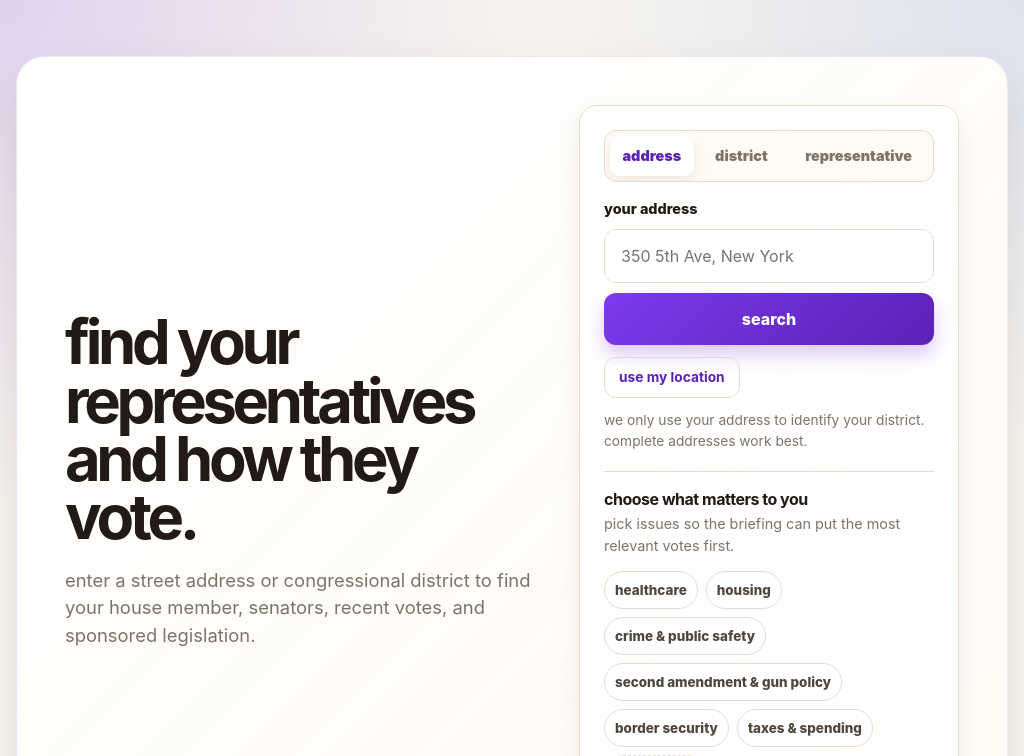
Scenario: App › matches selected issue chips to related backend issue buckets
Click the button "border security". click: point(666, 728)
box: [604, 709, 729, 747]
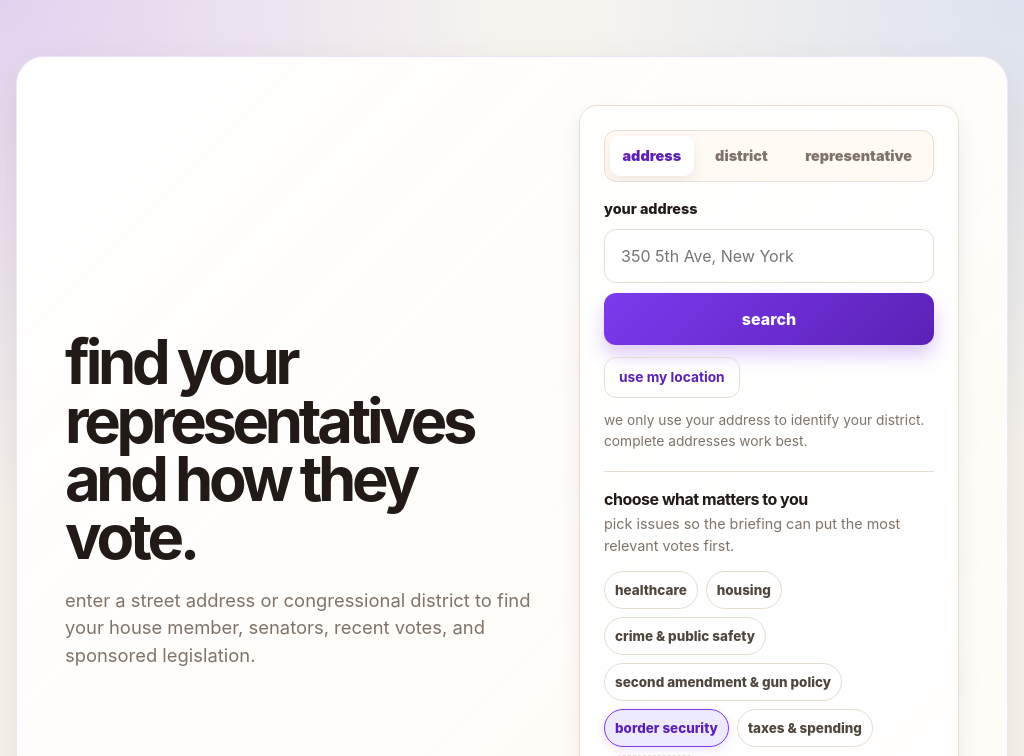
Type "123 Main St Decatur, GA 30030" into the field labelled "your address". click: point(769, 256)
box: [604, 229, 934, 283]
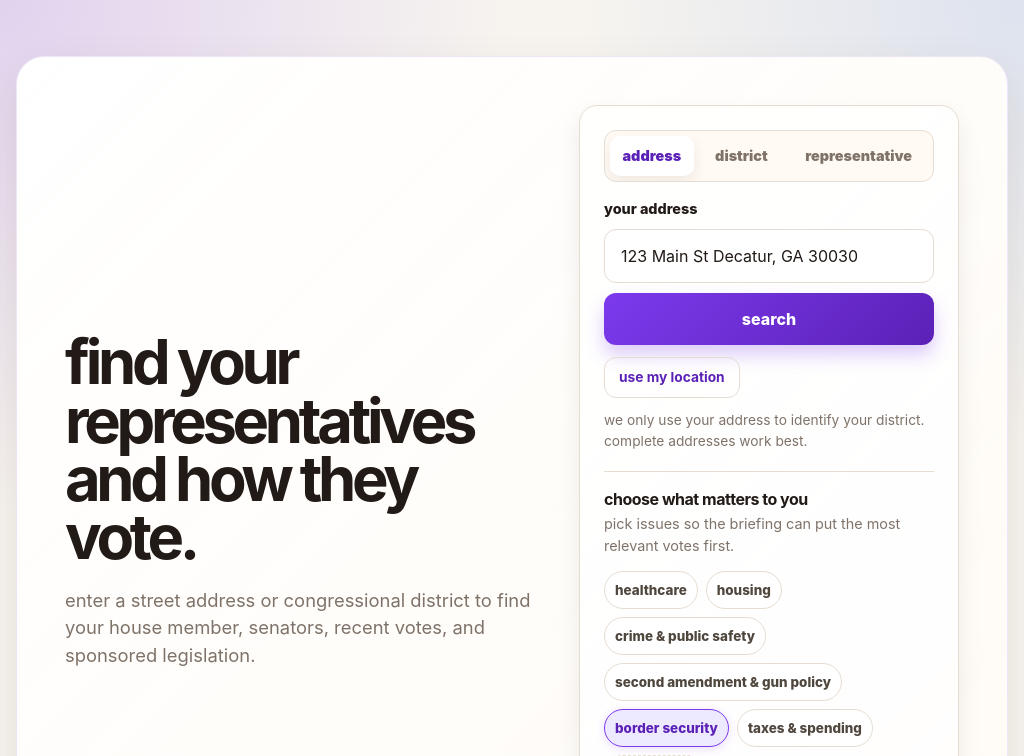
Click the button "search". click: point(769, 319)
box: [604, 293, 934, 345]
(page scrolled)
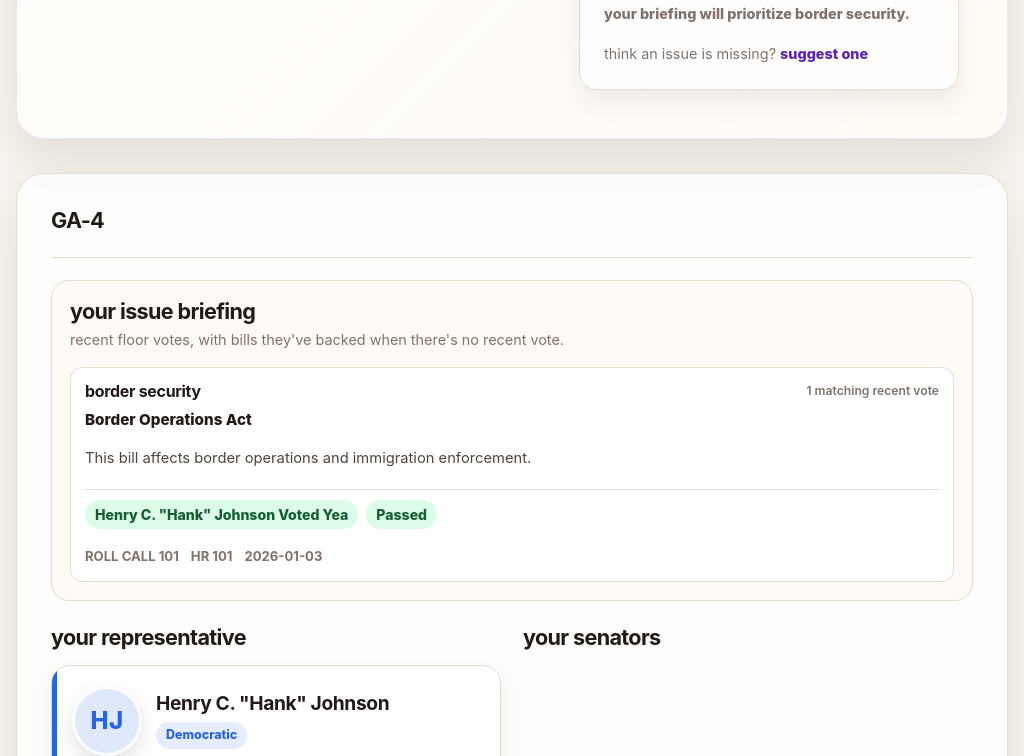
Expected: the heading "your issue briefing" is shown, [70, 298, 255, 324]
Expected: the text "1 matching recent vote" is shown, [806, 382, 939, 400]
Expected: the text "Border Operations Act" is shown, [85, 410, 252, 429]
